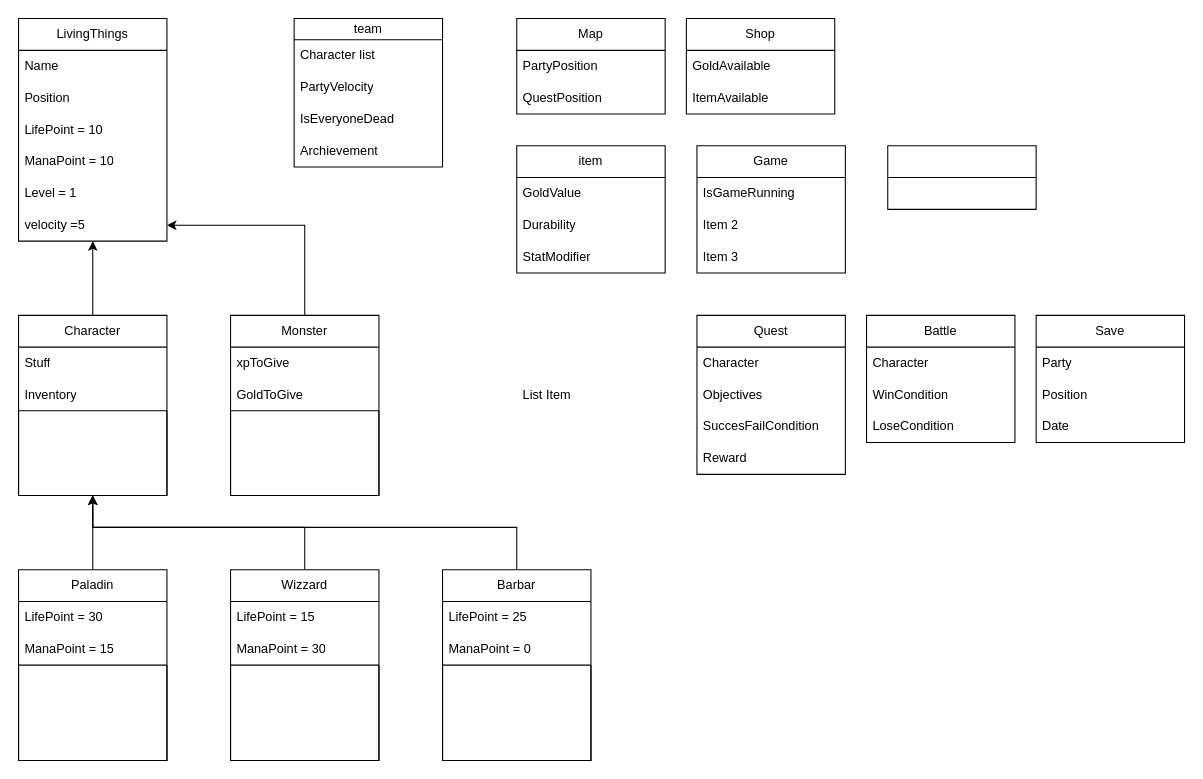
Some shapes in this 1203 by 779 pixel diagram are drawn without their labels. Here are the shapes that lost their labels. From the top down, the centre of each, then its label:
At (961,177): "Dialogue".
At (92,453): "move set".
At (304,453): "attack set".
At (92,712): "Paladin attack set methods".
At (304,712): "Wizzard spell set methods".
At (516,712): "Barbare attack set".
